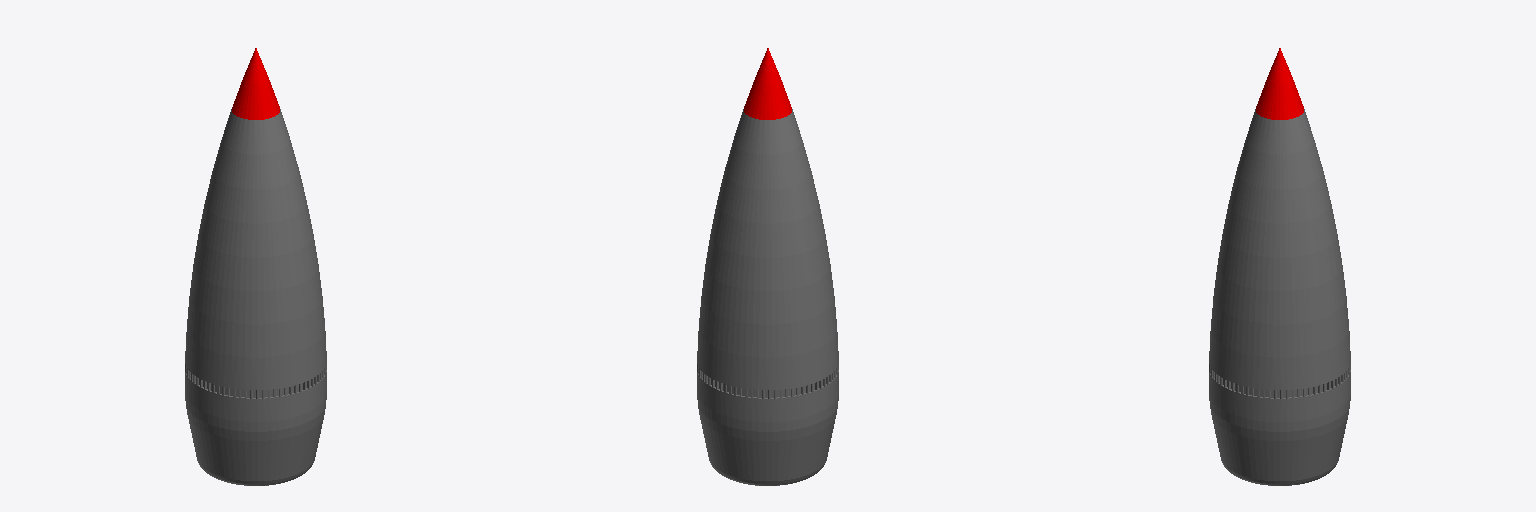
The model's file is 150gnhdybtipBT2.obj.
The picture shows the model from 3 angles: view 1: azimuth 30°, elevation 25°; view 2: azimuth 150°, elevation 25°; view 3: azimuth 270°, elevation 25°; orthographic projection.
Parts seen in each view (by area): view 1: Default; view 2: Default; view 3: Default.
Boxes of the visible parts, x1=… form: Default: x1=185, y1=48, x2=326, y2=485; Default: x1=697, y1=48, x2=838, y2=485; Default: x1=1209, y1=48, x2=1350, y2=485.
Size of the model in its own units: 7.82 by 25.4 by 7.82.